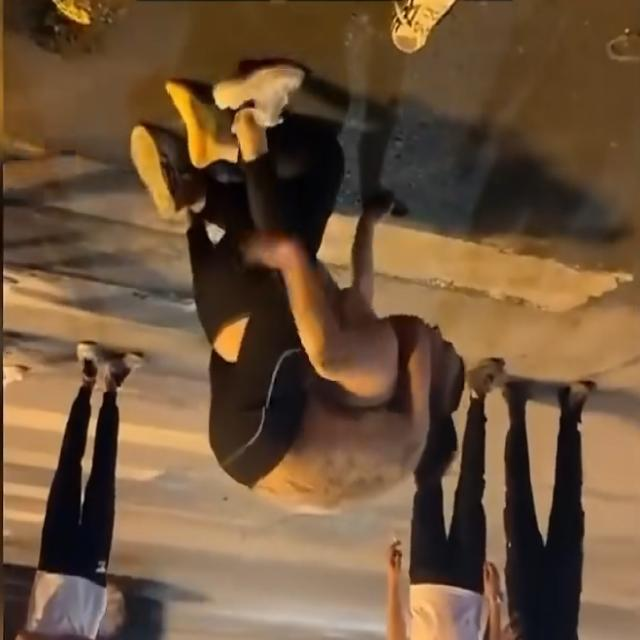fight: (178, 51, 472, 528)
